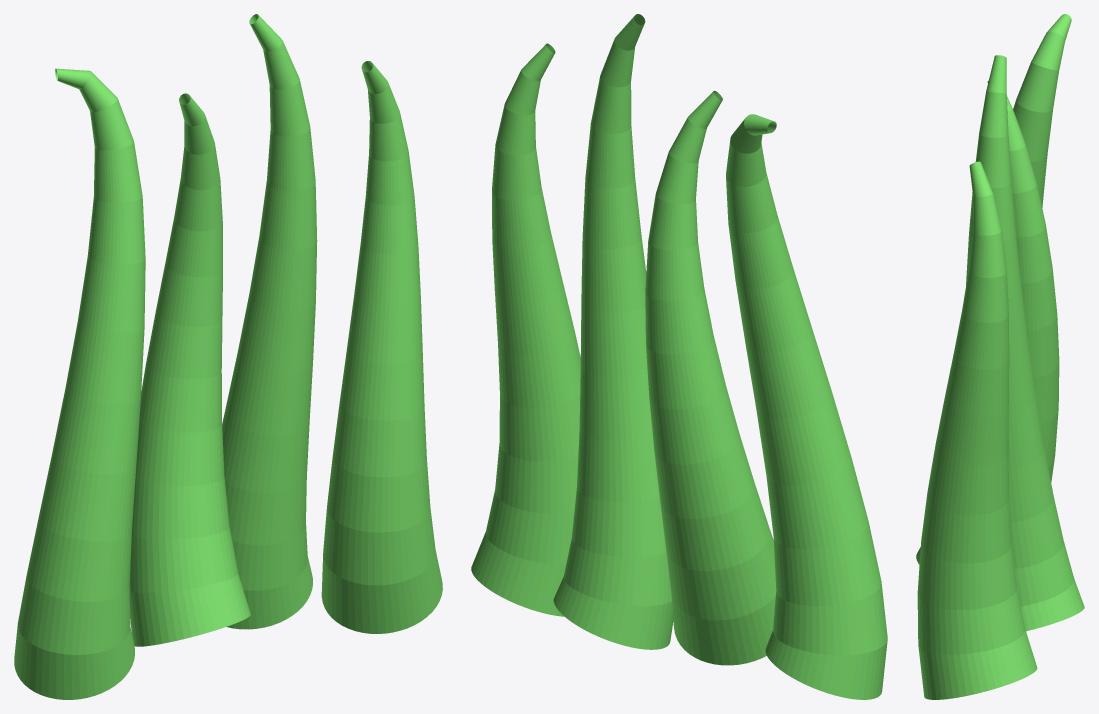
File: plant.fbx
3 views of the same model, side by side, from view 1: azimuth 30°, elevation 25°; view 2: azimuth 150°, elevation 25°; view 3: azimuth 270°, elevation 25° (orthographic). The views are drawn at different scales.
Parts seen in each view (by area): view 1: BezierCurve.002; view 2: BezierCurve.002; view 3: BezierCurve.002.
Part boxes in pixels (bbox=[...]): BezierCurve.002: bbox=[14, 14, 442, 699]; BezierCurve.002: bbox=[471, 14, 887, 699]; BezierCurve.002: bbox=[916, 14, 1084, 699].
Size of the model in its own units: 120 by 177 by 45.65.
